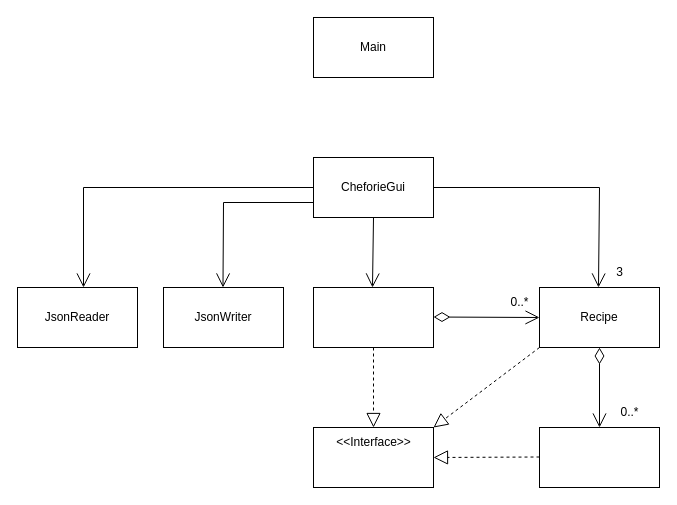
Image size: 677x505. Some labels were removed from this diagram. Here are the shapes that lost their labels. From the top down, the box of each, then its label:
(312, 286, 434, 348): RecipeList
(312, 426, 434, 488): Writable
(538, 426, 660, 488): Ingredients
